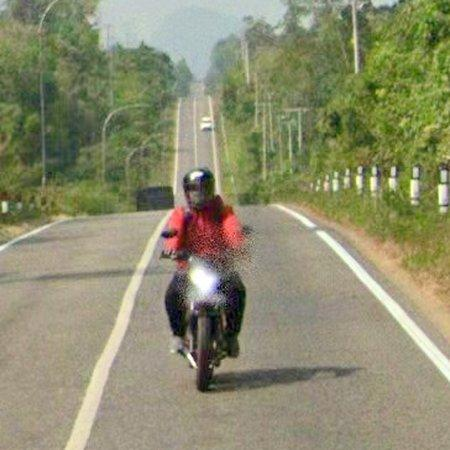motorcycles: (162, 228, 248, 398)
